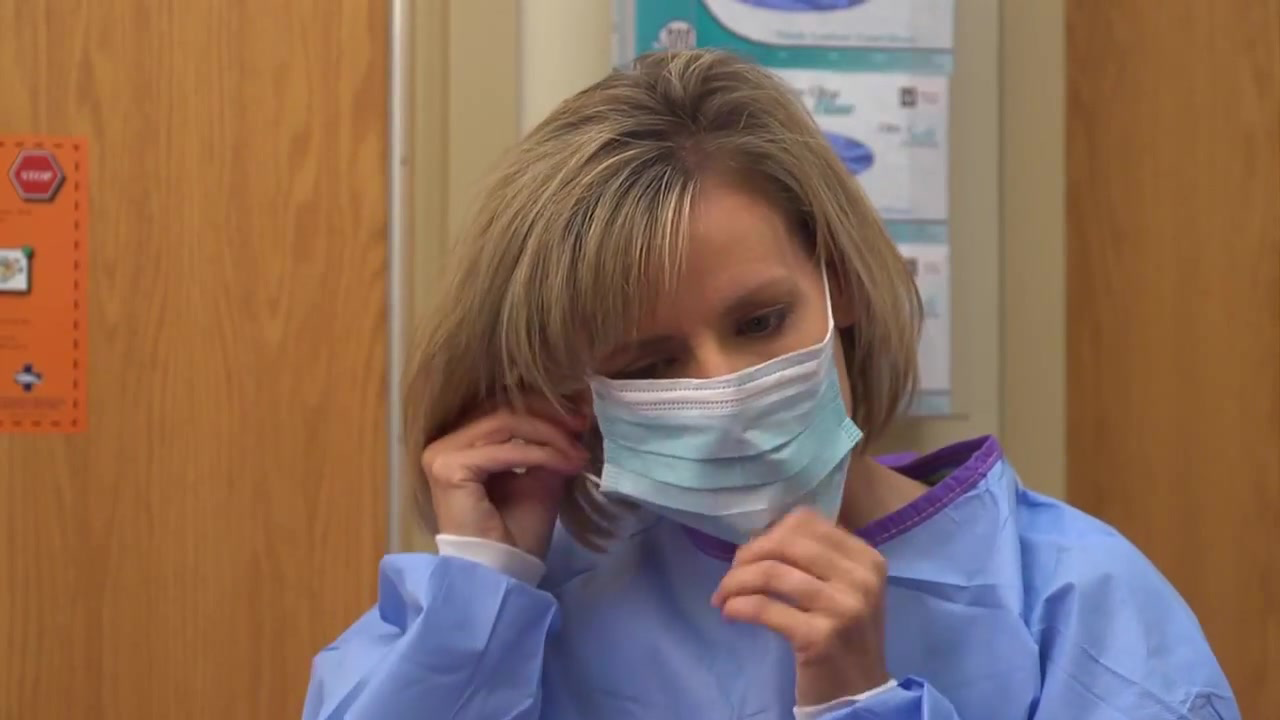Coverall: (344, 435, 1202, 720)
with_mask: (581, 362, 872, 543)
